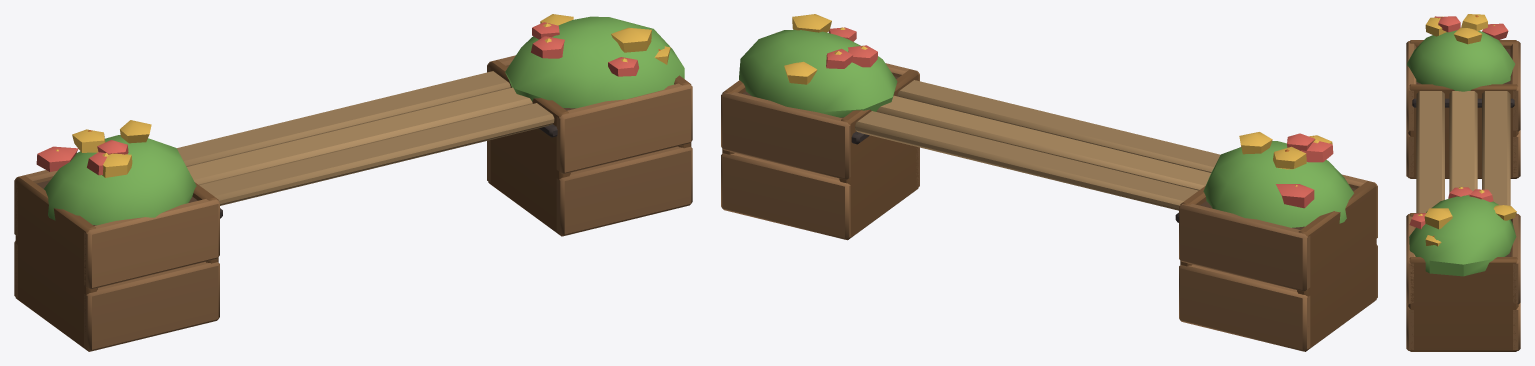
Rendered from planter-bench.glb.
3 views of the same model, side by side, from view 1: azimuth 30°, elevation 25°; view 2: azimuth 150°, elevation 25°; view 3: azimuth 270°, elevation 25° (orthographic). The views are drawn at different scales.
Visible parts, largest first — view 1: planter-bench; view 2: planter-bench; view 3: planter-bench.
Boxes of the visible parts, <box> form: planter-bench: <box>14,14,692,351</box>; planter-bench: <box>721,14,1377,351</box>; planter-bench: <box>1406,14,1520,351</box>.
Size of the model in its own units: 2.64 by 0.7306 by 0.56.
